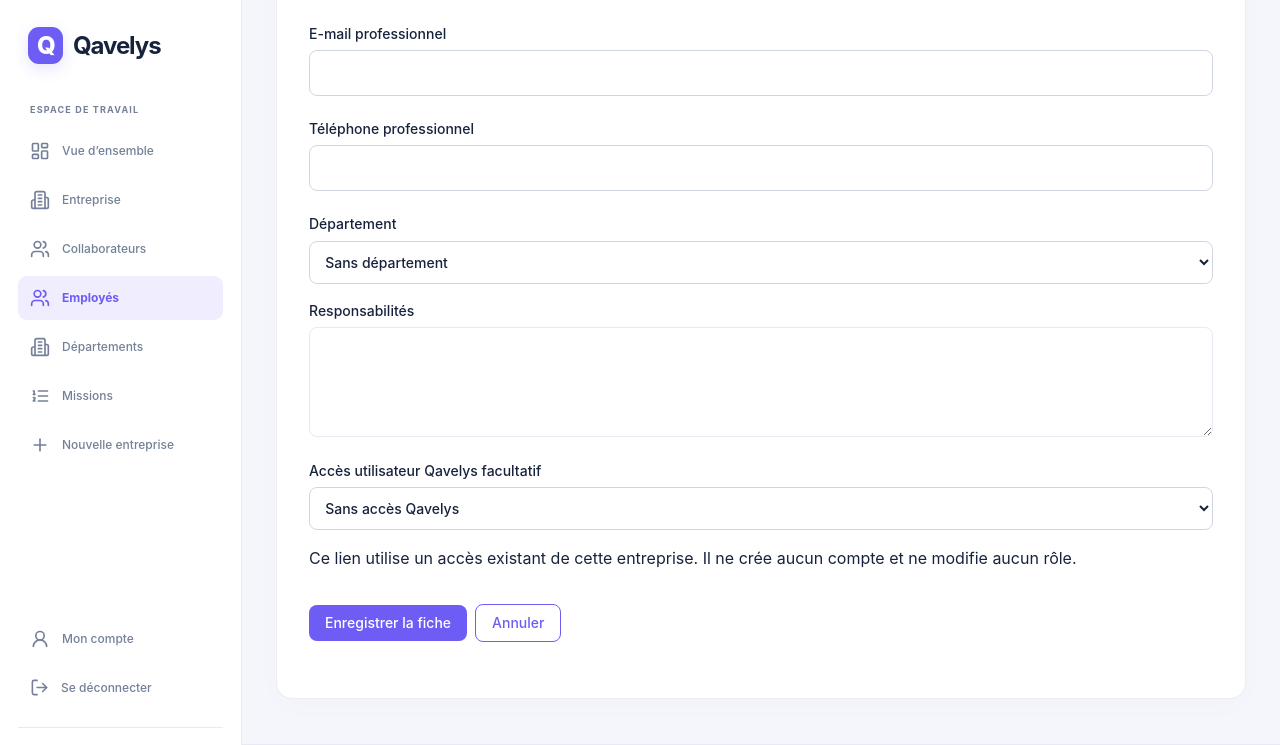
Test case: valide le matricule et le nom avant toute création
This screenshot has width=1280, height=745.
(page scrolled)
Click the button "Enregistrer la fiche" at (388, 623), box [309,605,467,641]
(page scrolled)
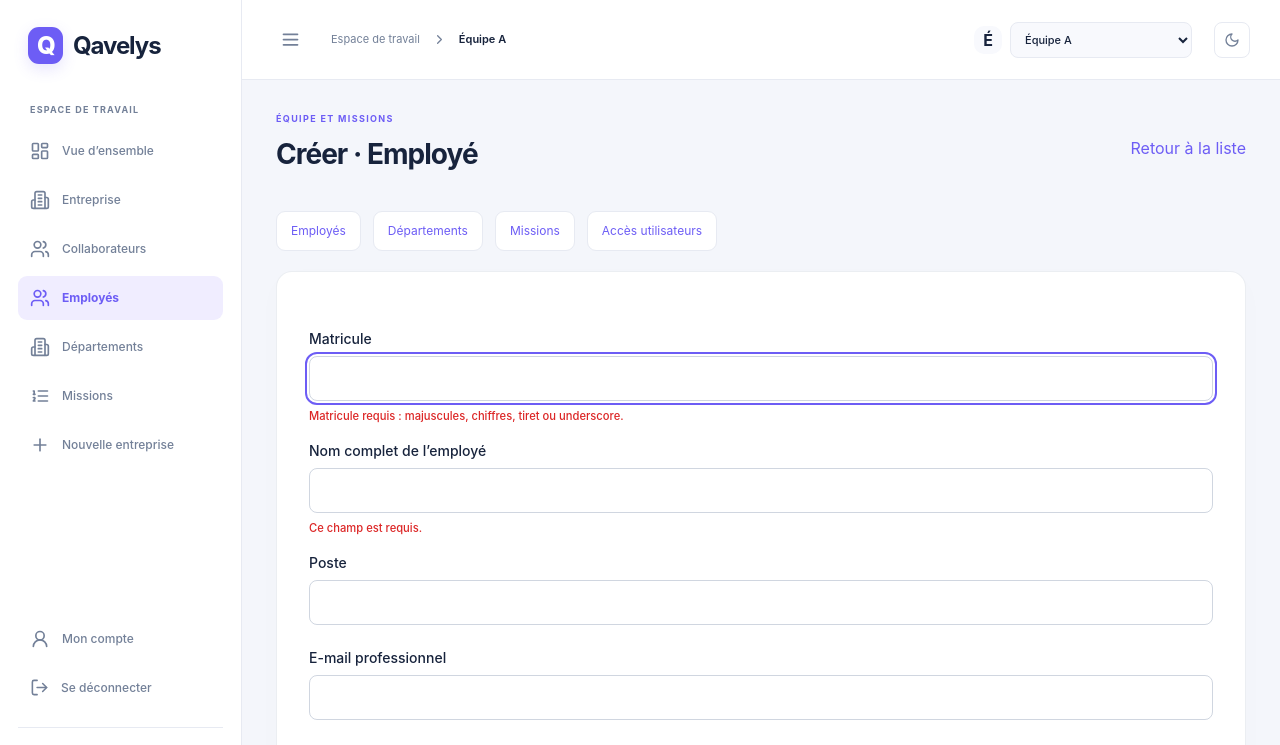
expect the text "Ce champ est requis." is shown: met, box [309,520,422,534]
expect the text "Matricule requis" is shown: met, box [309,408,624,422]
